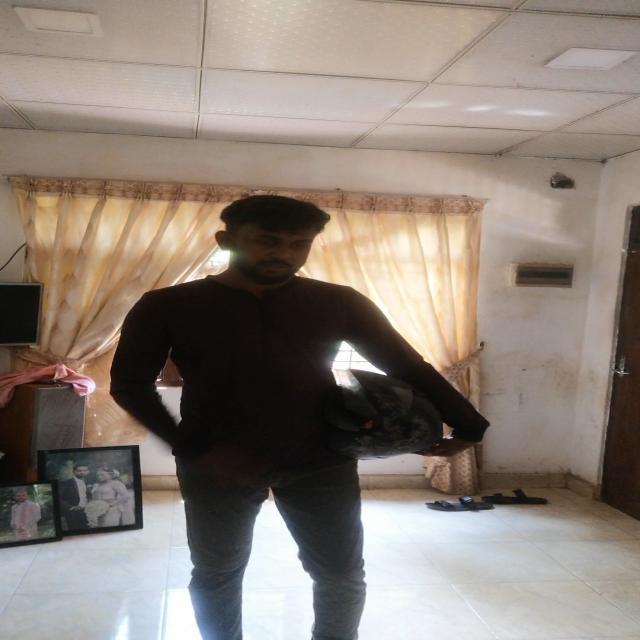Person: (119, 195, 482, 640)
